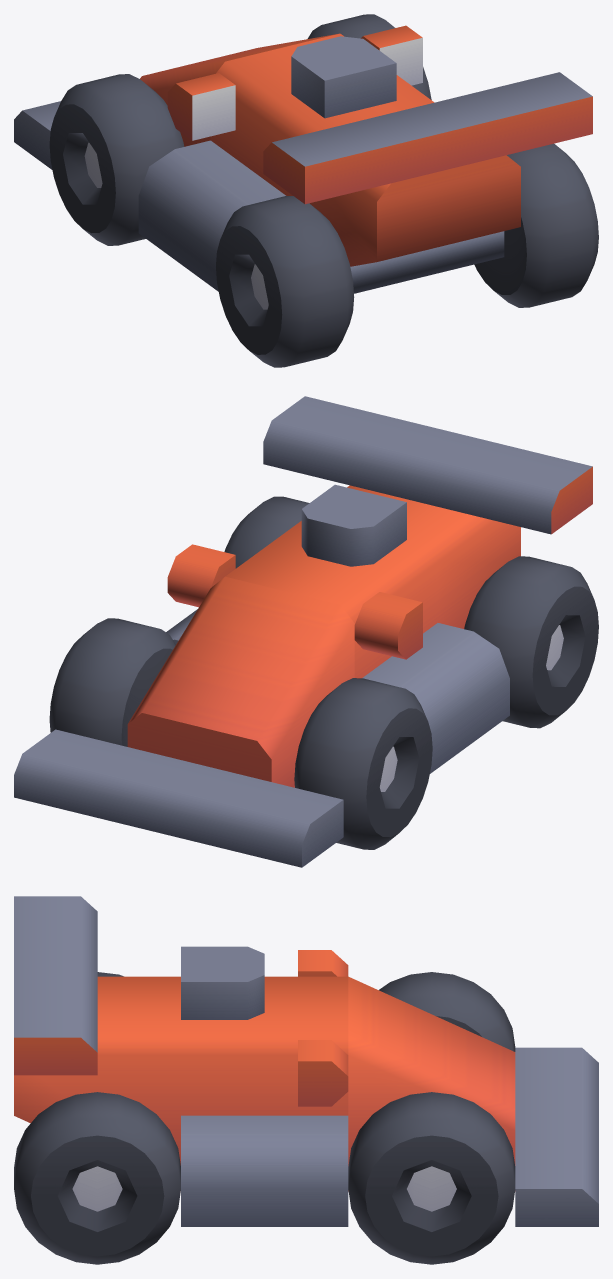
The model's file is vehicle-speedster.obj.
The picture shows the model from 3 angles, top to bottom: view 1: azimuth 30°, elevation 25°; view 2: azimuth 150°, elevation 25°; view 3: azimuth 270°, elevation 25°; orthographic projection.
Parts seen in each view (by area): view 1: vehicle-speedster, wheel-bl, wheel-fl, wheel-br, wheel-fr; view 2: vehicle-speedster, wheel-fl, wheel-bl, wheel-fr, wheel-br; view 3: vehicle-speedster, wheel-fr, wheel-br, wheel-fl.
Boxes of the visible parts, left/top/right/bottom form: vehicle-speedster: left=14, top=25, right=592, bottom=293; wheel-bl: left=216, top=196, right=354, bottom=367; wheel-fl: left=49, top=74, right=184, bottom=245; wheel-br: left=474, top=143, right=598, bottom=307; wheel-fr: left=307, top=14, right=431, bottom=99; vehicle-speedster: left=14, top=396, right=592, bottom=867; wheel-fl: left=294, top=678, right=432, bottom=849; wheel-bl: left=464, top=556, right=598, bottom=728; wheel-fr: left=49, top=618, right=175, bottom=746; wheel-br: left=224, top=496, right=309, bottom=568; vehicle-speedster: left=14, top=896, right=598, bottom=1226; wheel-fr: left=348, top=1092, right=515, bottom=1264; wheel-br: left=14, top=1092, right=180, bottom=1264; wheel-fl: left=379, top=972, right=515, bottom=1051.
Size of the model in its own units: 0.55 by 0.375 by 0.875.
1 material, 1 textured.
